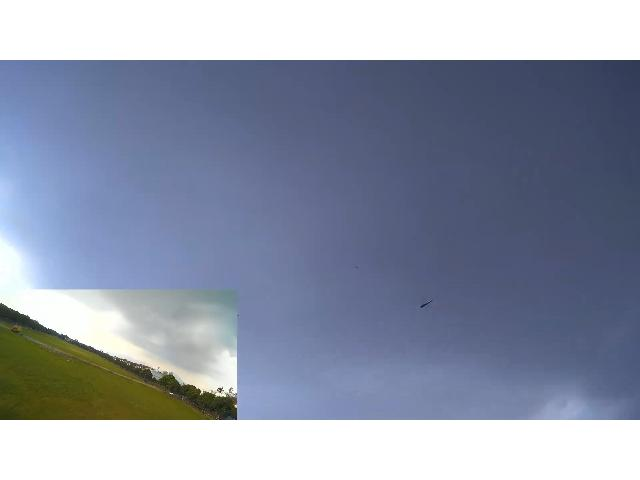Anti-Drone: (410, 290, 444, 322)
